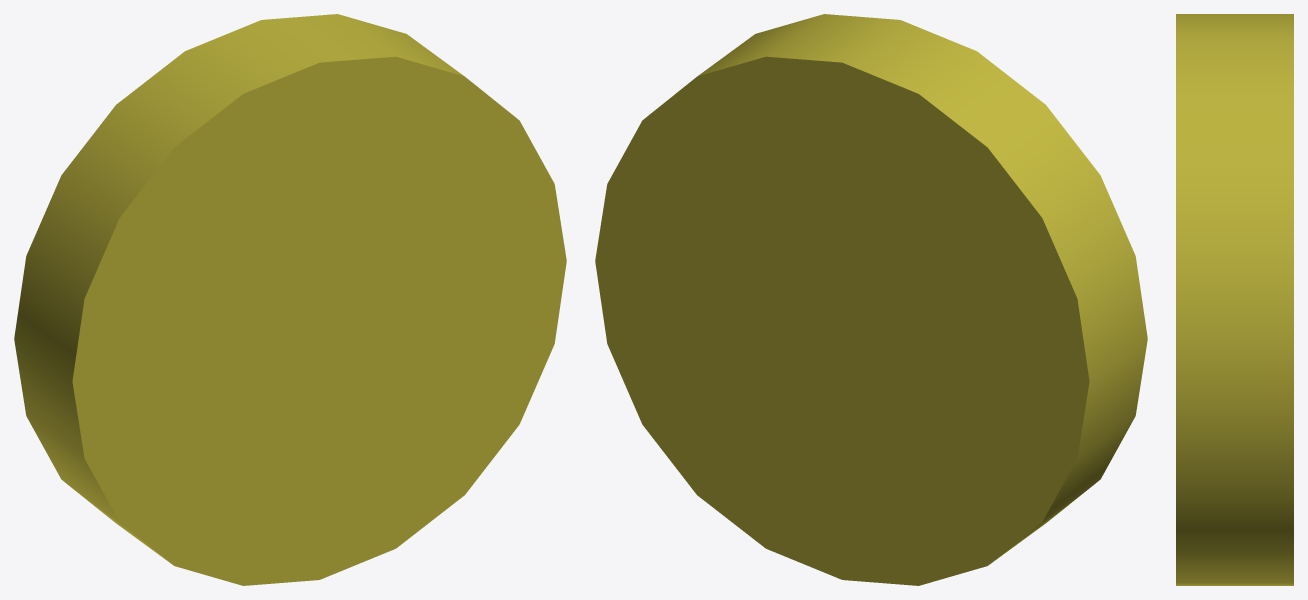
Rendered from coin_Blockout.fbx.
3 renders of one model, left to right at view 1: azimuth 30°, elevation 25°; view 2: azimuth 150°, elevation 25°; view 3: azimuth 270°, elevation 25°, orthographic.
Parts seen in each view (by area): view 1: Coin; view 2: Coin; view 3: Coin.
Boxes of the visible parts, x1=… form: Coin: x1=14, y1=14, x2=566, y2=585; Coin: x1=595, y1=14, x2=1147, y2=585; Coin: x1=1176, y1=14, x2=1293, y2=585.
Size of the model in its own units: 1 by 1 by 0.2042.
